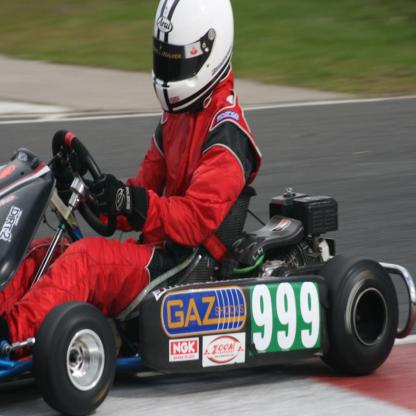Helmet: (144, 10, 230, 115)
